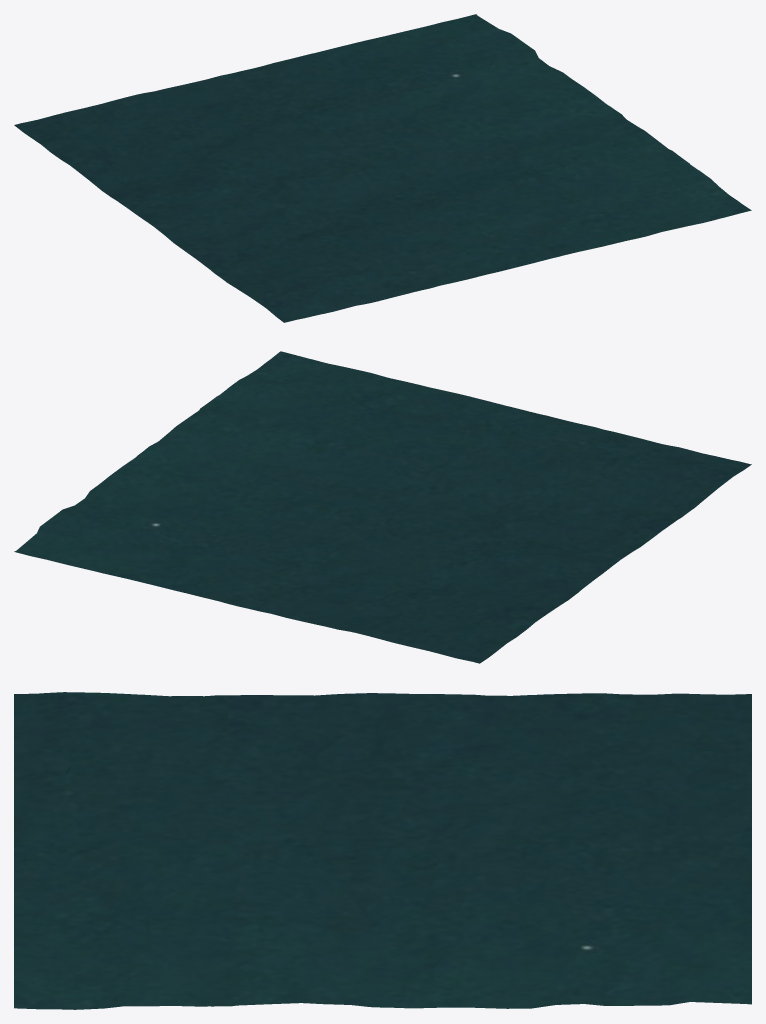
3 renders of one model, top to bottom at view 1: azimuth 30°, elevation 25°; view 2: azimuth 150°, elevation 25°; view 3: azimuth 270°, elevation 25°, orthographic. The views are drawn at different scales.
Size of the model in its own units: 104 by 1.03 by 104.
2 materials, 2 textured.
